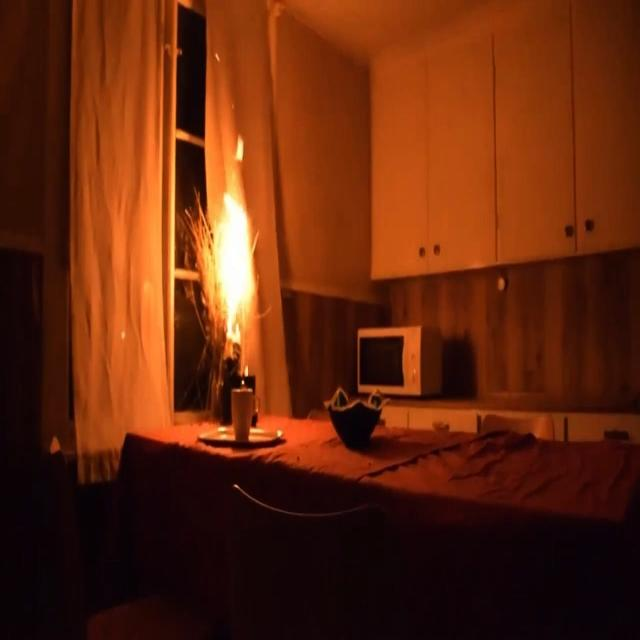fire: (203, 143, 275, 374)
